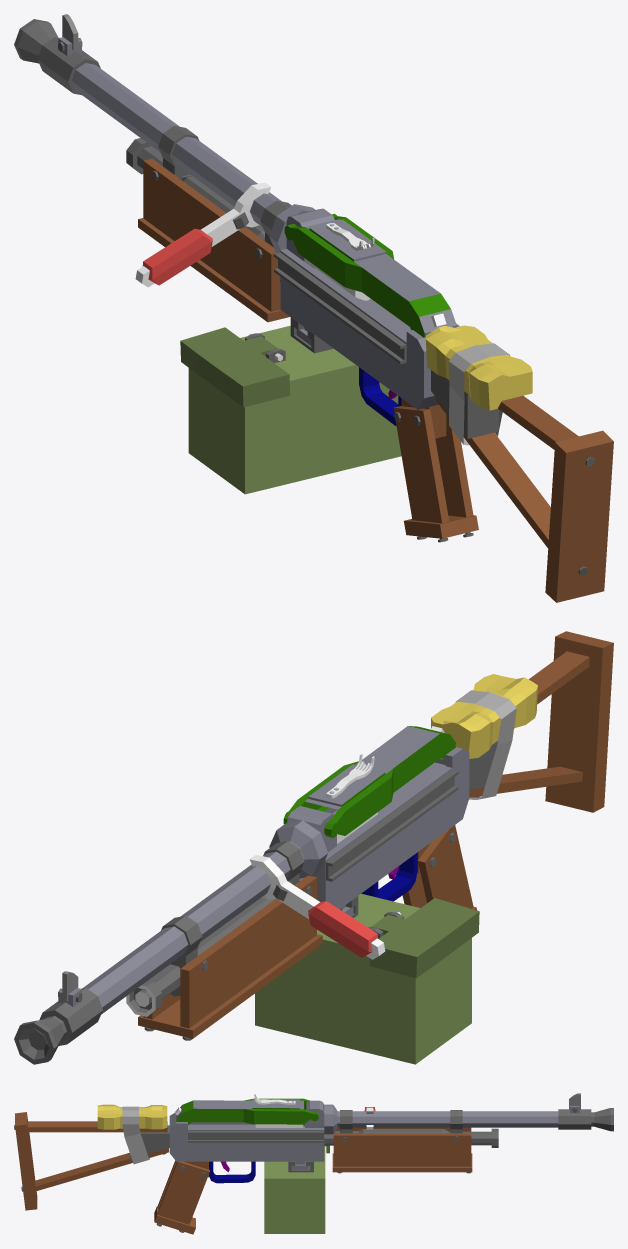
3 views of the same model, one above another, from view 1: azimuth 30°, elevation 25°; view 2: azimuth 150°, elevation 25°; view 3: azimuth 270°, elevation 25° (orthographic). The views are drawn at different scales.
Parts seen in each view (by area): view 1: LMG; view 2: LMG; view 3: LMG.
Boxes of the visible parts, x1=… form: LMG: x1=14, y1=14, x2=613, y2=602; LMG: x1=14, y1=631, x2=613, y2=1064; LMG: x1=14, y1=1093, x2=613, y2=1234.
Bounding box in the file's own units: 82.75 × 118 × 473.
